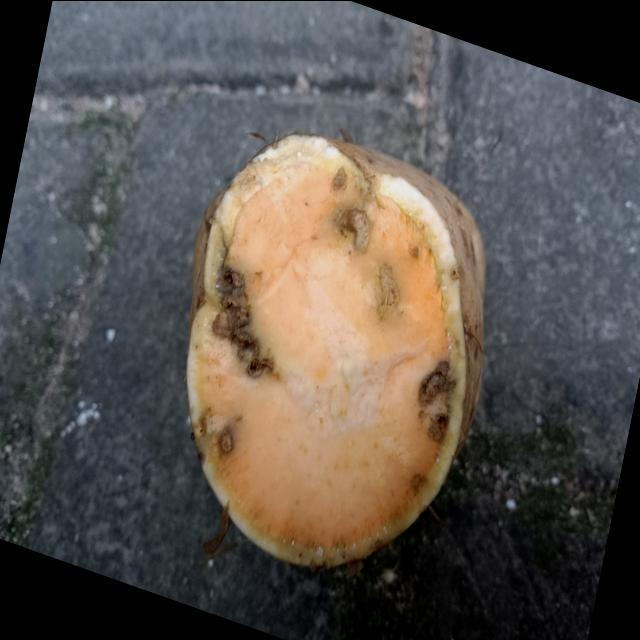Sick Sweet Potato_Tuber Rot: (188, 133, 456, 565)
